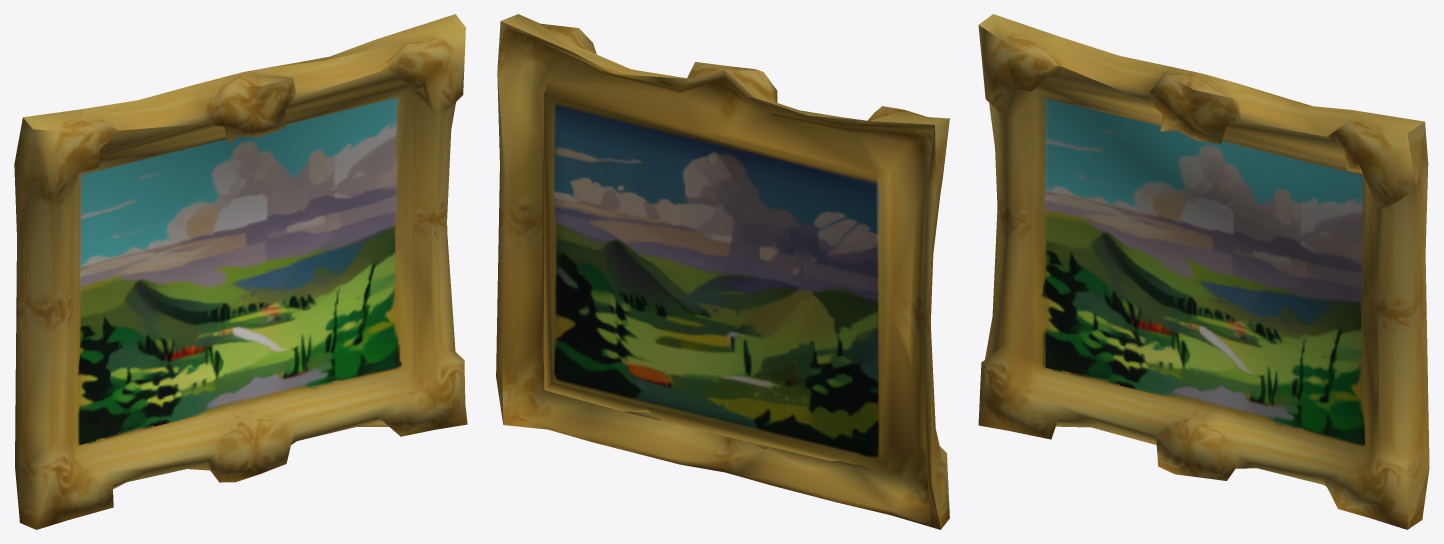
File: landscape-dramatic-clouds.glb
3 views of the same model, side by side, from view 1: azimuth 30°, elevation 25°; view 2: azimuth 150°, elevation 25°; view 3: azimuth 330°, elevation 25° (orthographic).
Parts seen in each view (by area): view 1: geometry_0.001; view 2: geometry_0.001; view 3: geometry_0.001.
Boxes of the visible parts, box(x1,y1,x2,y2) form: geometry_0.001: box(14, 14, 467, 529); geometry_0.001: box(496, 14, 949, 529); geometry_0.001: box(978, 14, 1429, 529).
Size of the model in its own units: 0.9988 by 0.8801 by 0.1161.
1 material, 1 textured.
